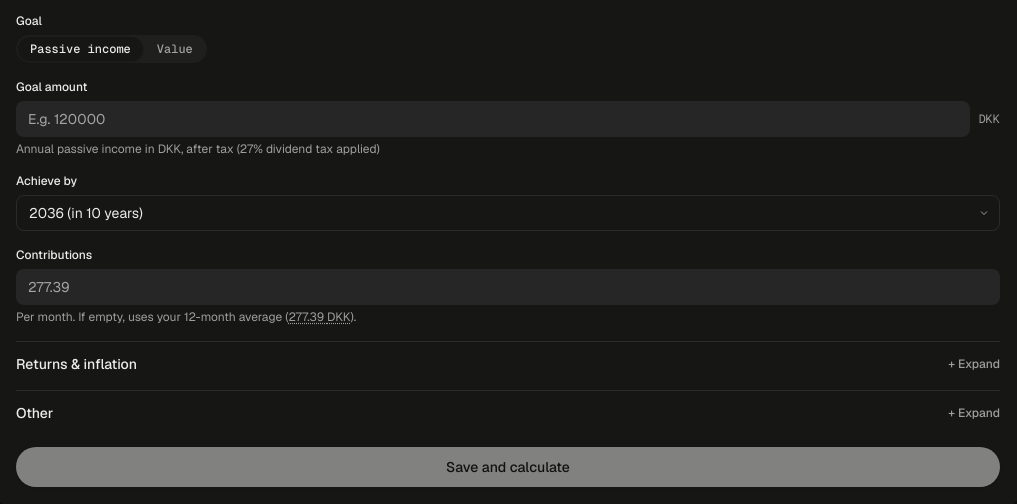
Scenario: GoalForm › marks the income goal amount as after-tax when a dividend tax rate is set
Expected: the text "after tax (27% dividend tax applied)" is shown, left=16, top=141, right=380, bottom=157
typing an amount keeps the after-tax marker in the echo line
Type "120000" into the field labelled "Goal amount".
click(493, 119); type("120000")  # box left=16, top=101, right=970, bottom=137
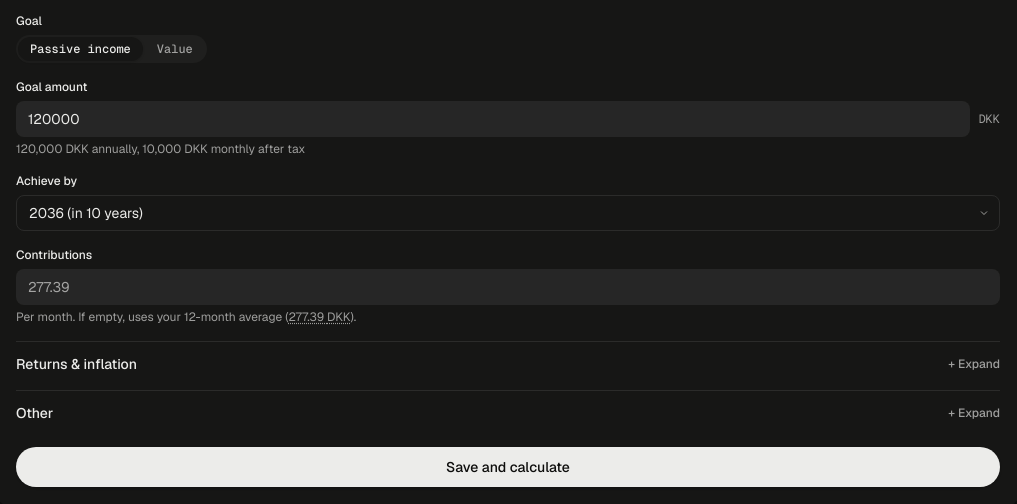
Result: the text "120,000 DKK annually, 10,000 DKK monthly after tax" is shown at left=16, top=141, right=305, bottom=157
value mode has no tax semantics — the marker disappears
Click the radio button labelled "Value".
click(175, 49)  # box left=145, top=37, right=205, bottom=61
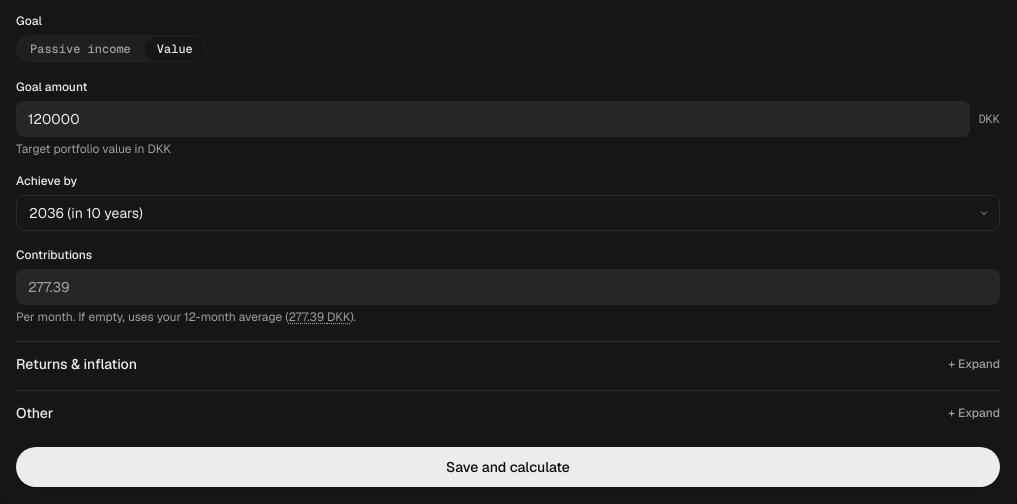
Result: the text "after tax" is gone
